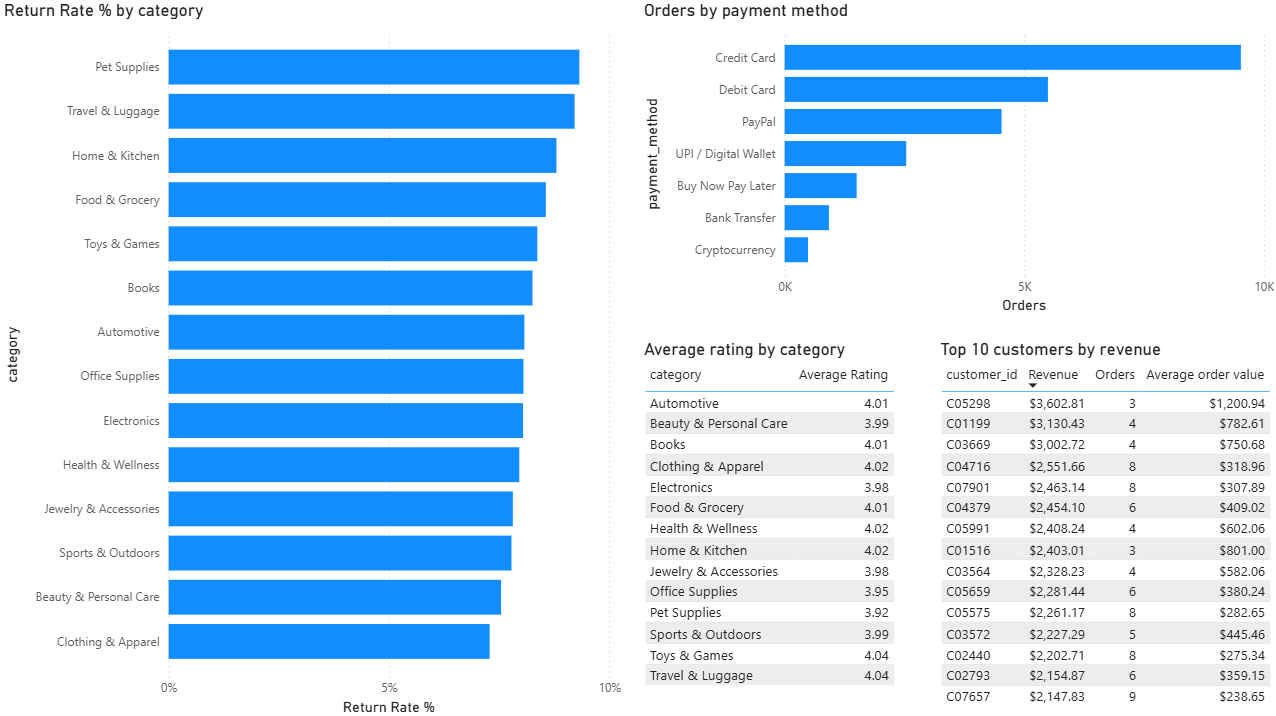

The dashboard page shown, as its layout file describes it:
{"tool":"powerbi","page":{"name":"Page 2","canvas":[1280,720],"ordinal":1},"visuals":[{"type":"tableEx","title":"Top 10 customers by revenue","fields":{"Values":["customers.customer_id","DateTable.Revenue","DateTable.Orders","DateTable.Average order value"]},"box":[936.2,338.8,343.8,381.2],"z":0},{"type":"clusteredBarChart","title":"Orders by payment method","fields":{"Category":["orders.payment_method"],"Y":["DateTable.Orders"]},"box":[640,0,640,318.8],"z":1000},{"type":"clusteredBarChart","fields":{"Category":["orders.category"],"Y":["DateTable.Return Rate %"]},"box":[0,0,627.5,720],"z":2000},{"type":"tableEx","title":"Average rating by category","fields":{"Values":["orders.category","DateTable.Average Rating"]},"box":[640,338.8,263.8,355],"z":3000}]}

Visuals, with their boxes in screenshot pixels (x1, y1, x2, y2), scaled from the page's 1280x720 canvas onto the 1276x716 screenshot:
"Top 10 customers by revenue" tableEx: (x1=933, y1=337, x2=1275, y2=715)
"Orders by payment method" clusteredBarChart: (x1=638, y1=0, x2=1275, y2=317)
clusteredBarChart - orders.category x DateTable.Return Rate %: (x1=0, y1=0, x2=626, y2=715)
"Average rating by category" tableEx: (x1=638, y1=337, x2=901, y2=690)
